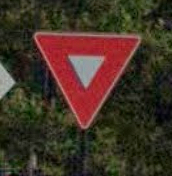cedeaza: (31, 30, 143, 140)
